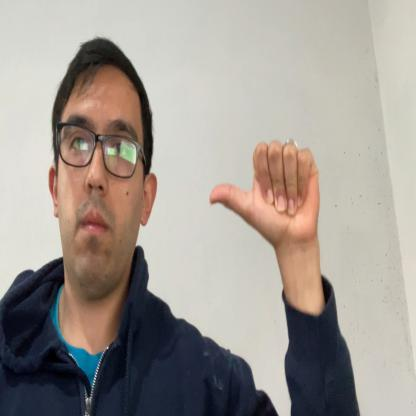A: (209, 137, 320, 247)
